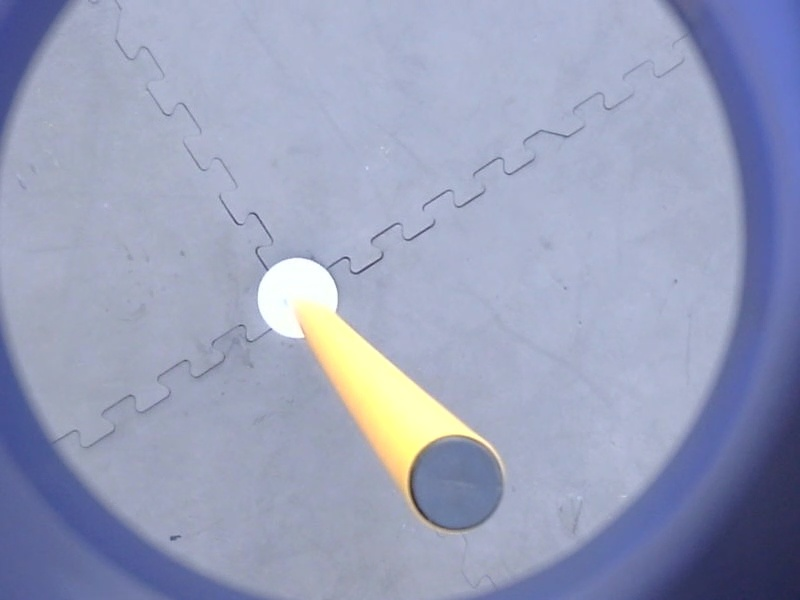tip: (402, 428, 509, 537)
